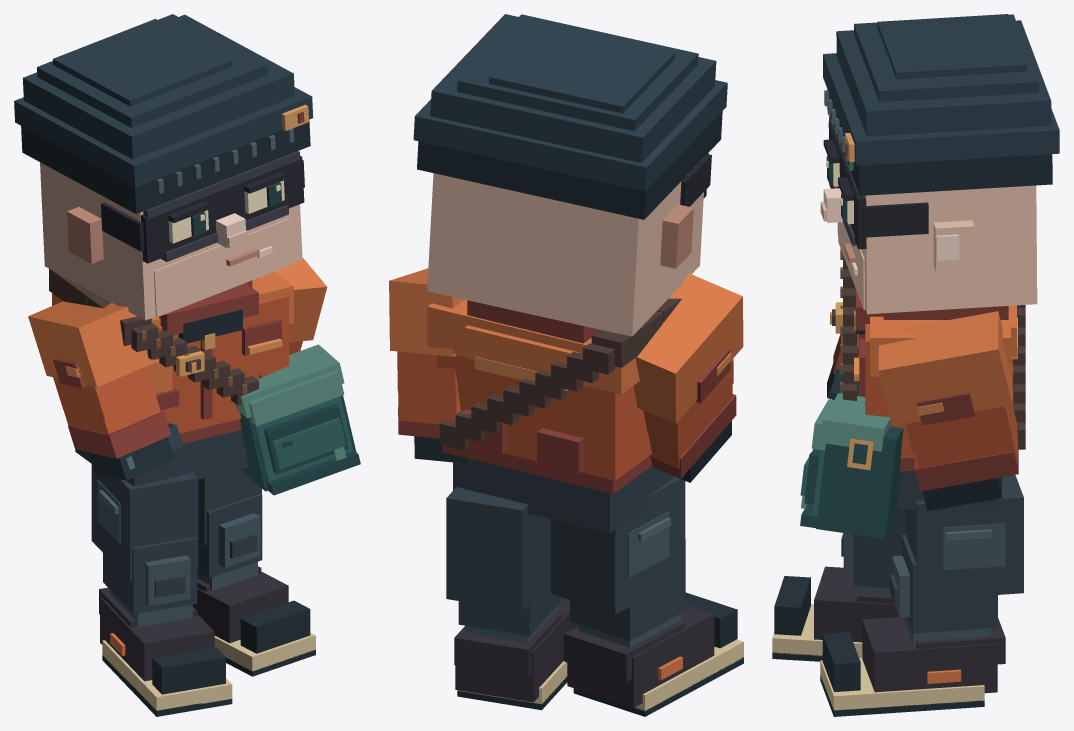
File: thief.glb
The picture shows the model from 3 angles, left to right: view 1: azimuth 30°, elevation 25°; view 2: azimuth 150°, elevation 25°; view 3: azimuth 270°, elevation 25°; orthographic projection. The views are drawn at different scales.
Visible parts, largest first — view 1: Head · cap and mask, Leg.L · runner, Torso · work jacket and strap, Arm.L · glove, Leg.R · runner, Satchel · canvas and brass, Arm.R · glove; view 2: Head · cap and mask, Torso · work jacket and strap, Leg.L · runner, Leg.R · runner, Arm.L · glove, Arm.R · glove; view 3: Head · cap and mask, Leg.R · runner, Arm.R · glove, Satchel · canvas and brass, Torso · work jacket and strap, Leg.L · runner, Arm.L · glove.
Boxes of the visible parts, x1,y1,x2,y2 form: Head · cap and mask: (14, 14, 313, 320); Leg.L · runner: (91, 464, 232, 716); Torso · work jacket and strap: (49, 269, 293, 486); Arm.L · glove: (28, 301, 183, 480); Leg.R · runner: (192, 469, 315, 676); Satchel · canvas and brass: (235, 344, 360, 495); Arm.R · glove: (258, 258, 327, 354); Head · cap and mask: (413, 14, 727, 336); Torso · work jacket and strap: (427, 298, 681, 533); Leg.L · runner: (551, 476, 743, 716); Leg.R · runner: (446, 487, 578, 710); Arm.L · glove: (633, 273, 743, 482); Arm.R · glove: (389, 268, 471, 463); Head · cap and mask: (820, 14, 1059, 314); Leg.R · runner: (820, 475, 1023, 716); Arm.R · glove: (878, 311, 1018, 511); Satchel · canvas and brass: (800, 393, 903, 538); Torso · work jacket and strap: (830, 248, 1025, 509); Leg.L · runner: (772, 509, 904, 661); Arm.L · glove: (827, 334, 858, 399).
Bounding box in the file's own units: 1.12 × 2.38 × 1.
